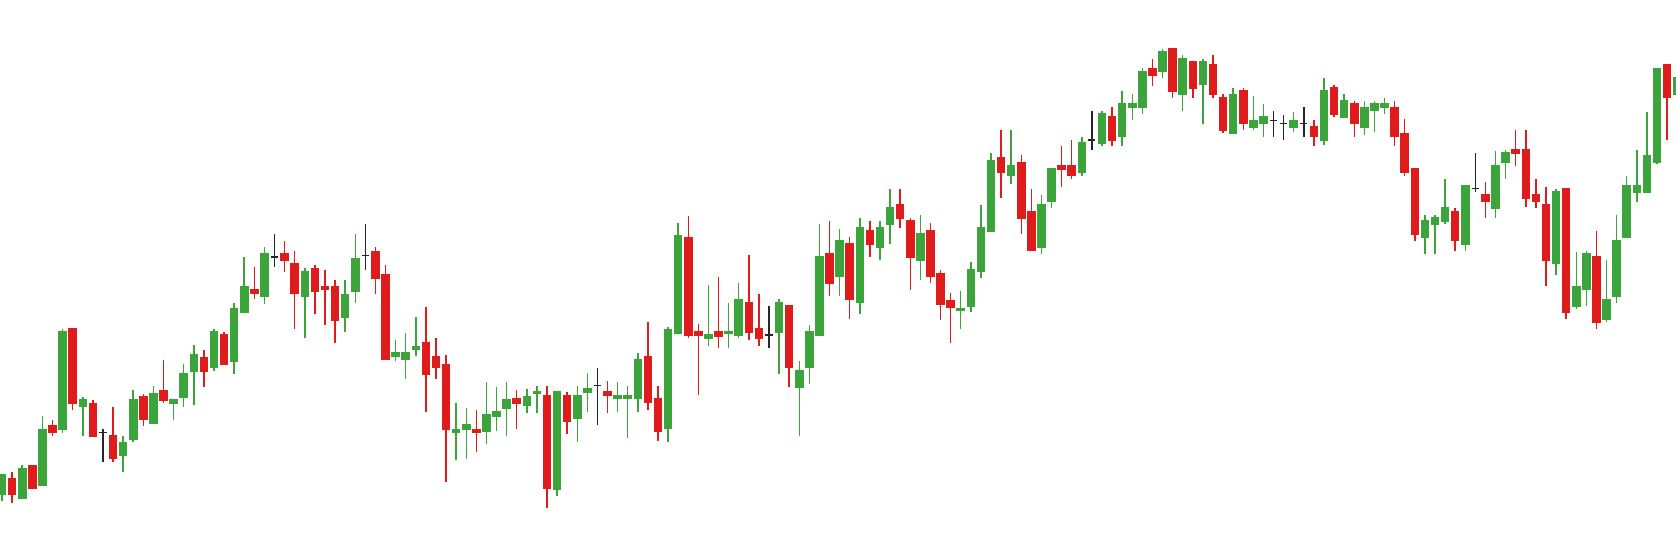buy: (695, 283, 806, 448), (1419, 168, 1562, 288), (439, 387, 564, 513), (844, 223, 964, 348)
sell: (277, 234, 381, 319)
